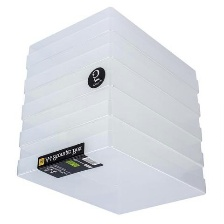plastic_box: (10, 2, 213, 221)
